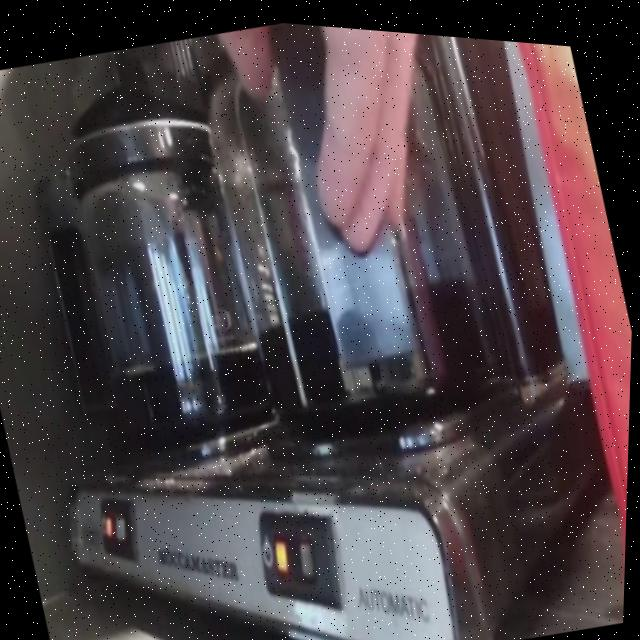coffee: (244, 208, 502, 438), (77, 165, 283, 453)
